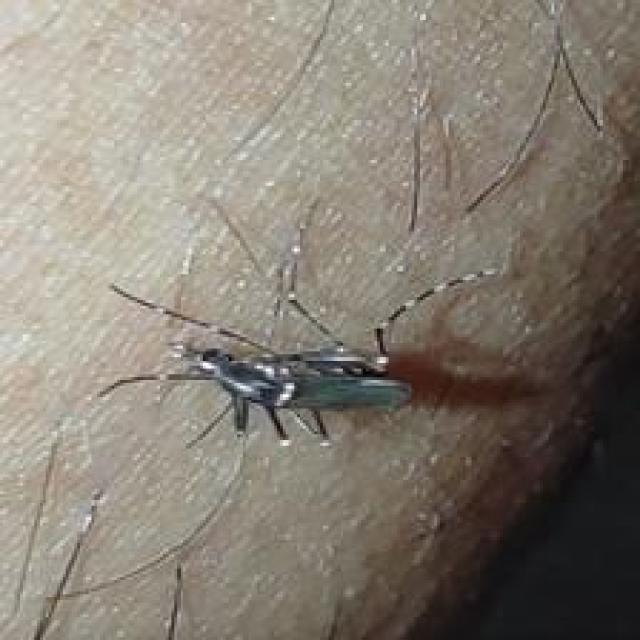Aedes albopictus: (97, 197, 503, 452)
